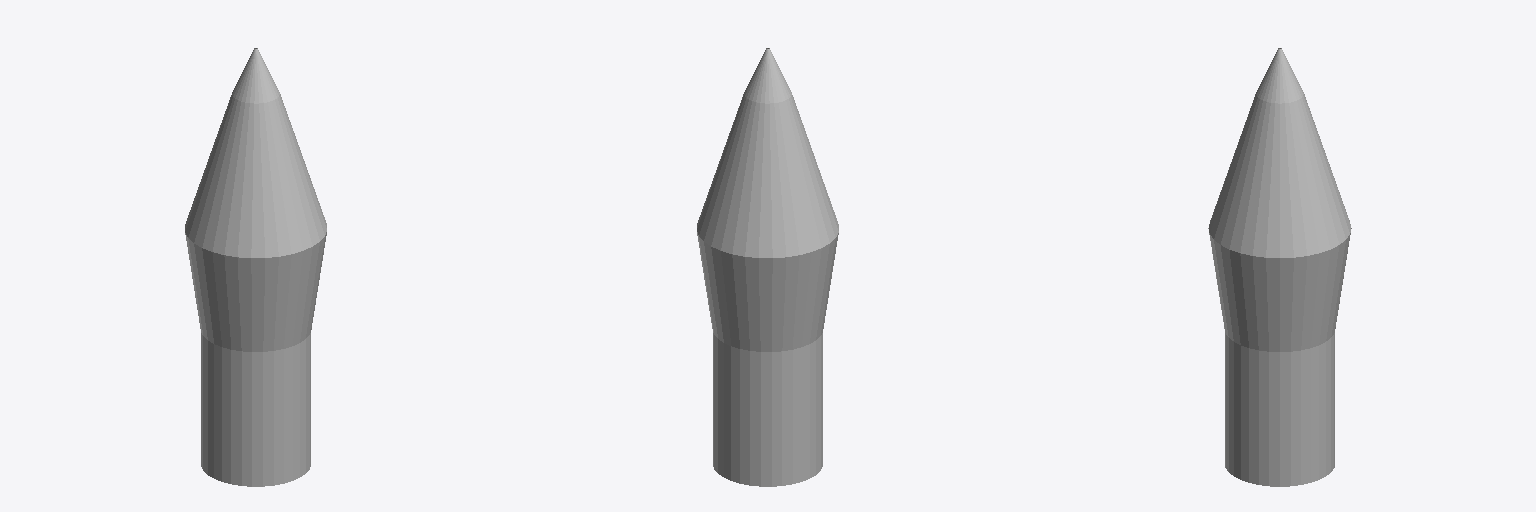
The model's file is Warhead.obj.
3 views of the same model, side by side, from view 1: azimuth 30°, elevation 25°; view 2: azimuth 150°, elevation 25°; view 3: azimuth 270°, elevation 25° (orthographic).
Parts seen in each view (by area): view 1: Warhead; view 2: Warhead; view 3: Warhead.
Part boxes in pixels (x1,y1,x2,y2): Warhead: (185,48,326,486); Warhead: (697,48,838,486); Warhead: (1208,48,1351,486).
Size of the model in its own units: 2.58 by 8.25 by 2.58.